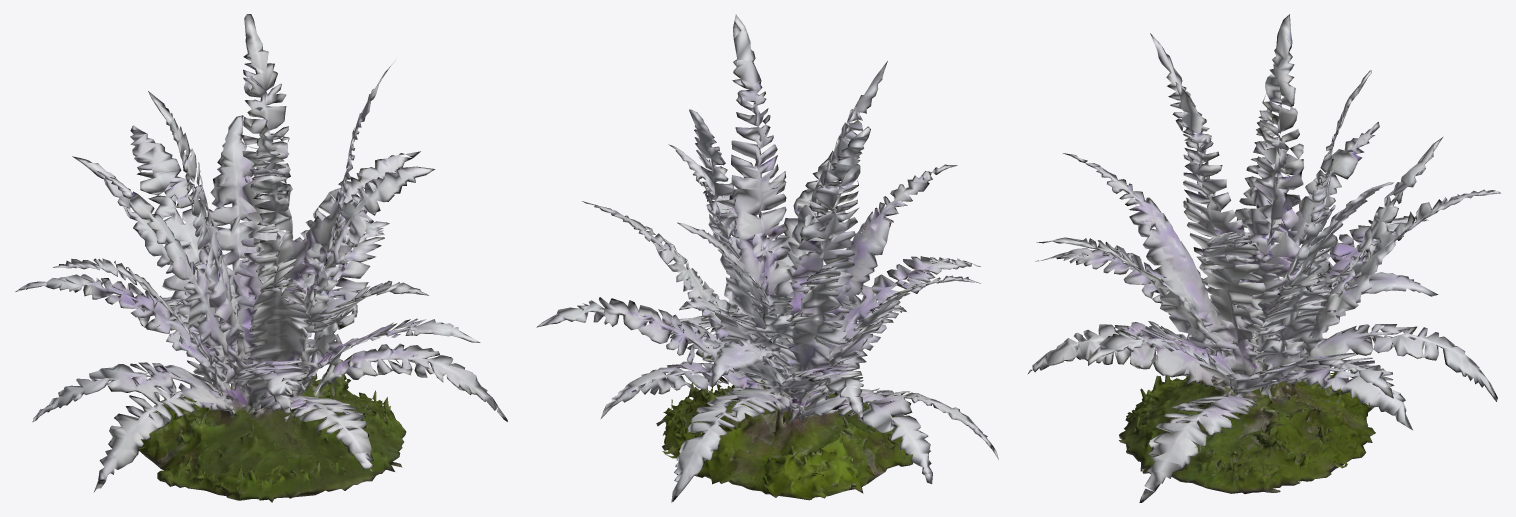
File: fern_deer_glow.glb
3 views of the same model, side by side, from view 1: azimuth 30°, elevation 25°; view 2: azimuth 150°, elevation 25°; view 3: azimuth 270°, elevation 25° (orthographic). The views are drawn at different scales.
Size of the model in its own units: 1.95 by 1.86 by 2.
1 material, 1 textured.
